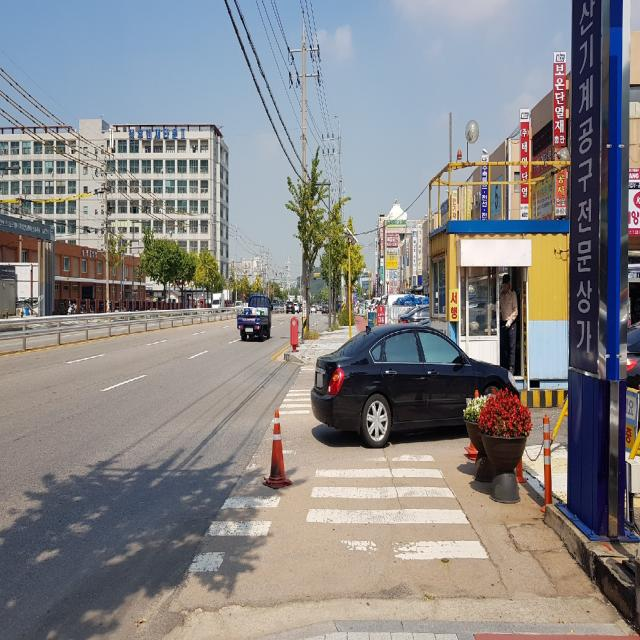횡단보도: (185, 362, 490, 577)
